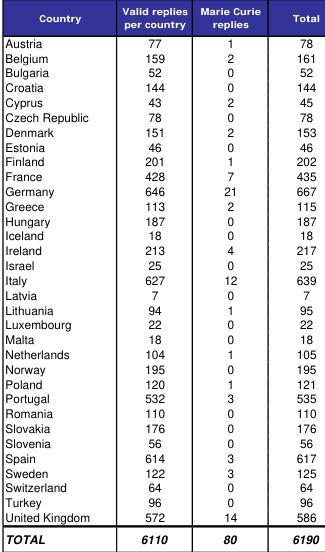table: (4, 4, 318, 546)
table column: (4, 4, 105, 546), (105, 4, 193, 546), (193, 4, 275, 546), (275, 4, 318, 546)
table column header: (4, 4, 318, 31)
table row: (4, 4, 318, 31), (4, 508, 318, 527), (4, 527, 318, 546), (4, 31, 318, 49), (4, 49, 318, 64), (4, 64, 318, 79), (4, 79, 318, 94), (4, 108, 318, 123), (4, 123, 318, 138), (4, 138, 318, 153), (4, 153, 318, 168), (4, 182, 318, 197), (4, 197, 318, 212), (4, 212, 318, 227), (4, 227, 318, 242), (4, 242, 318, 257), (4, 271, 318, 286), (4, 286, 318, 301), (4, 301, 318, 316), (4, 316, 318, 331), (4, 345, 318, 360), (4, 360, 318, 375), (4, 375, 318, 390), (4, 390, 318, 405), (4, 405, 318, 420), (4, 434, 318, 449), (4, 449, 318, 464), (4, 464, 318, 479), (4, 479, 318, 494), (4, 94, 318, 108), (4, 168, 318, 182), (4, 257, 318, 271), (4, 331, 318, 345), (4, 420, 318, 434), (4, 494, 318, 508)
